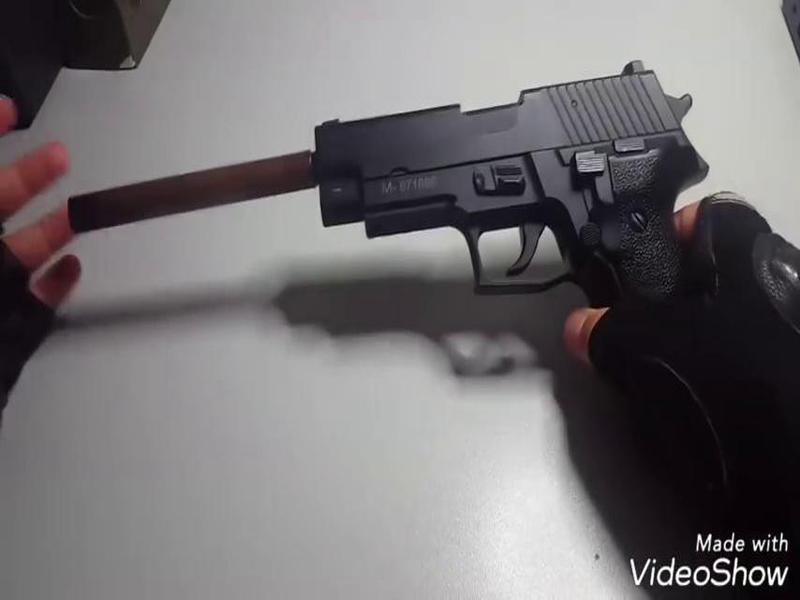Pistola: (297, 58, 731, 361)
